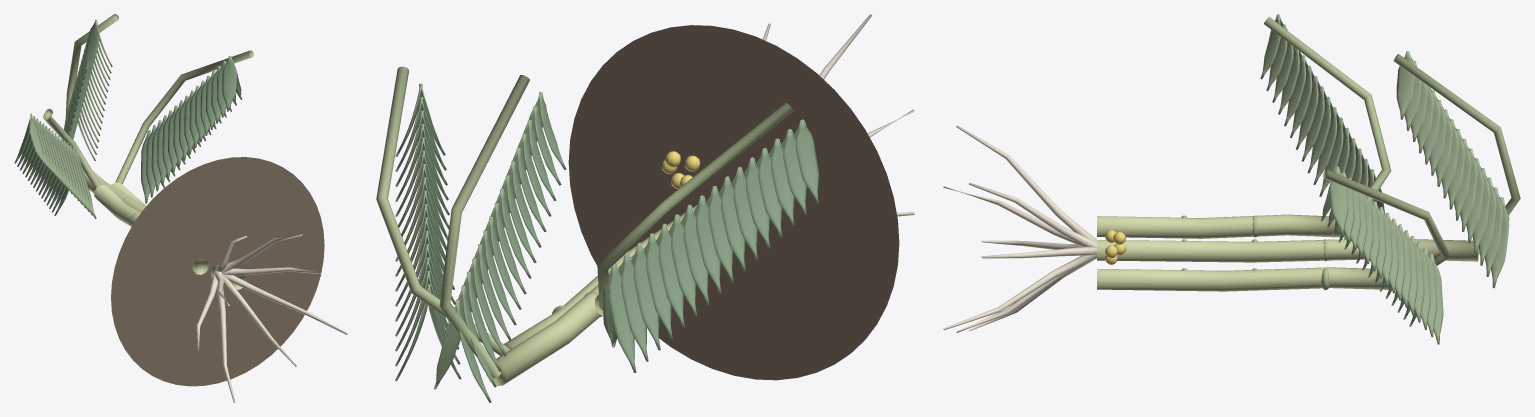
Rendered from palm.glb.
3 renders of one model, left to right at view 1: azimuth 30°, elevation 25°; view 2: azimuth 150°, elevation 25°; view 3: azimuth 270°, elevation 25°, orthographic. The views are drawn at different scales.
Visible parts, largest first — view 1: Part_Soil__soil, Part_Rachis__rachis1, Part_Cane__cane2, Part_Rachis__rachis0, Part_Roots__rt7, Part_Rachis__rachis2, Part_Leaflet__lf115m, Part_Roots__rt5, Part_Roots__rt6, Part_Roots__rt0, Part_Cane__cane0, Part_Leaflet__lf015m (+18 smaller); view 2: Part_Soil__soil, Part_Rachis__rachis0, Part_Rachis__rachis1, Part_Rachis__rachis2, Part_Cane__cane0, Part_Leaflet__lf20m, Part_Leaflet__lf21m, Part_Leaflet__lf22m, Part_Leaflet__lf23m, Part_Leaflet__lf24m, Part_Leaflet__lf25m, Part_Leaflet__lf26m (+28 smaller); view 3: Part_Cane__cane0, Part_Cane__cane1, Part_Cane__cane2, Part_Rachis__rachis2, Part_Rachis__rachis0, Part_Rachis__rachis1, Part_Roots__rt2, Part_Roots__rt7, Part_Roots__rt1, Part_Roots__rt0, Part_Leaflet__lf115p, Part_Leaflet__lf015p (+31 smaller).
Boxes of the visible parts, x1,y1,x2,y2 form: Part_Soil__soil: (111, 157, 324, 386); Part_Rachis__rachis1: (115, 50, 253, 184); Part_Cane__cane2: (94, 185, 208, 274); Part_Rachis__rachis0: (65, 14, 118, 122); Part_Roots__rt7: (222, 274, 347, 334); Part_Rachis__rachis2: (43, 109, 100, 189); Part_Leaflet__lf115m: (222, 56, 236, 111); Part_Roots__rt5: (216, 284, 235, 402); Part_Roots__rt6: (222, 275, 296, 366); Part_Roots__rt0: (222, 267, 320, 275); Part_Cane__cane0: (84, 171, 219, 277); Part_Leaflet__lf015m: (84, 20, 99, 73); Part_Soil__soil: (568, 25, 899, 380); Part_Rachis__rachis0: (439, 75, 529, 378); Part_Rachis__rachis1: (376, 66, 509, 355); Part_Rachis__rachis2: (597, 102, 792, 310); Part_Cane__cane0: (486, 239, 656, 385); Part_Leaflet__lf20m: (608, 263, 636, 372); Part_Leaflet__lf21m: (621, 252, 648, 361); Part_Leaflet__lf22m: (633, 242, 660, 350); Part_Leaflet__lf23m: (646, 233, 672, 338); Part_Leaflet__lf24m: (658, 223, 684, 327); Part_Leaflet__lf25m: (671, 214, 697, 316); Part_Leaflet__lf26m: (683, 204, 709, 304); Part_Cane__cane0: (1097, 239, 1478, 262); Part_Cane__cane1: (1097, 267, 1395, 291); Part_Cane__cane2: (1097, 214, 1346, 238); Part_Rachis__rachis2: (1264, 17, 1391, 200); Part_Rachis__rachis0: (1393, 54, 1520, 254); Part_Rachis__rachis1: (1323, 170, 1449, 265); Part_Roots__rt2: (956, 125, 1097, 242); Part_Roots__rt7: (943, 254, 1096, 330); Part_Roots__rt1: (969, 182, 1097, 247); Part_Roots__rt0: (981, 246, 1096, 258); Part_Leaflet__lf115p: (1329, 166, 1348, 234); Part_Leaflet__lf015p: (1396, 51, 1414, 119).
Size of the model in its own units: 1.56 by 1.62 by 2.45.
